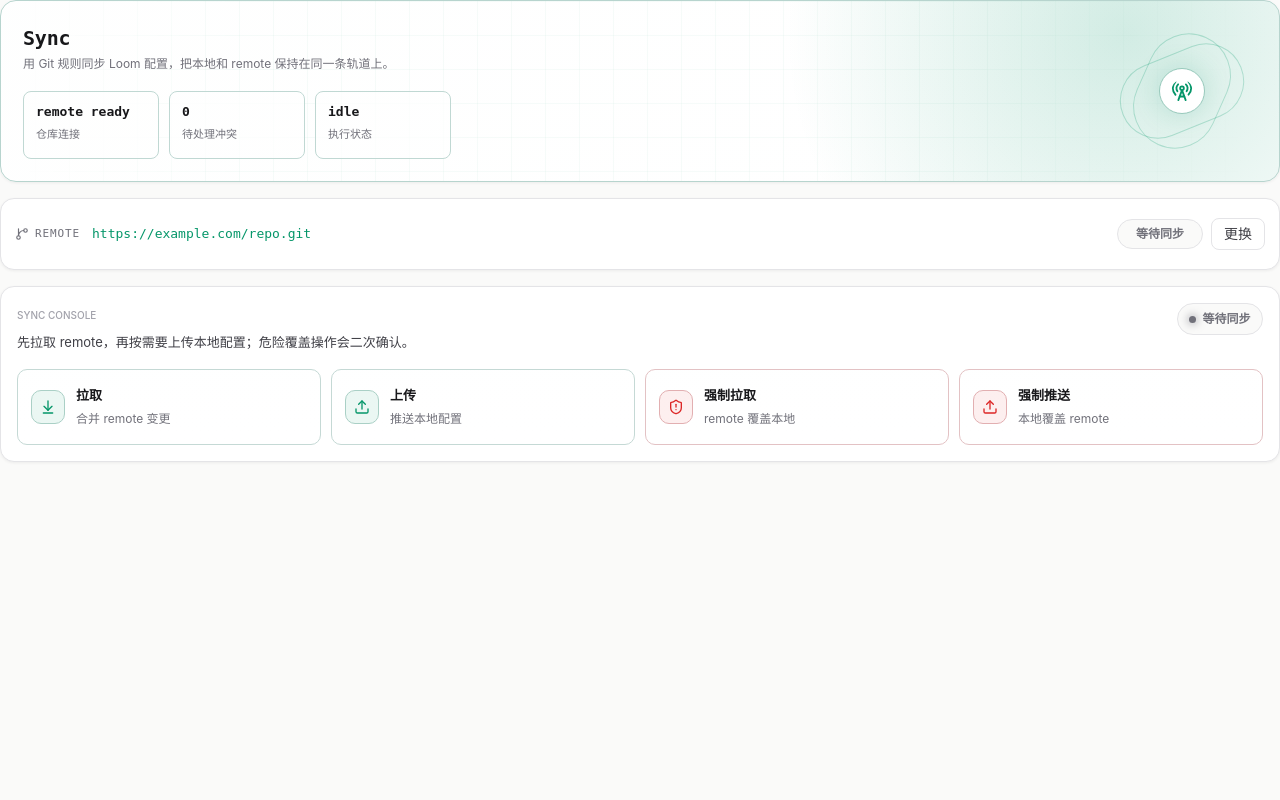
Test case: Sync force operations › can stop waiting for a running upload from the feedback dialog
Expected: the link "https://example.com/repo.git" is shown, [92,226,311,241]
Click the button "上传 推送本地配置" at [362, 407], box [331,369,635,445]
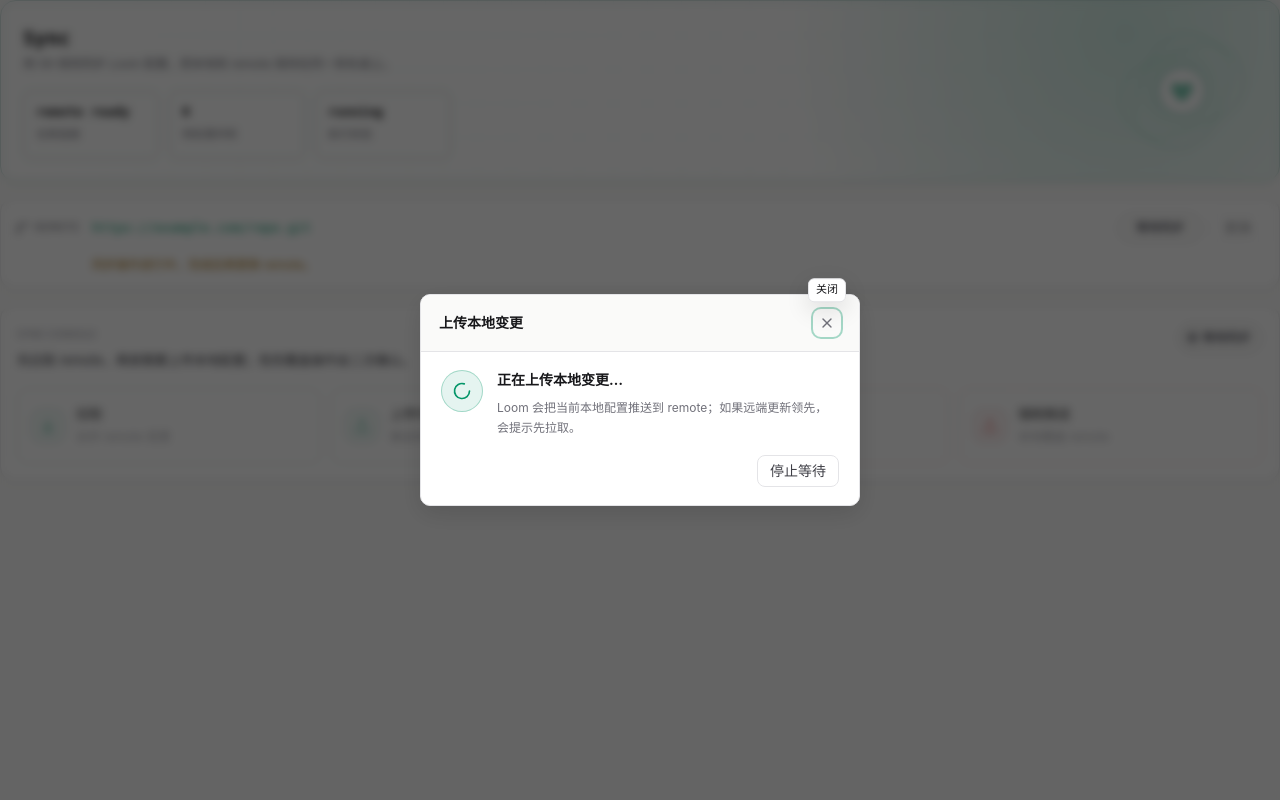
Now the dialog "上传本地变更" is shown, box [420,294,860,506]
Click the button named "关闭" at [827, 324], box [813,310,841,338]
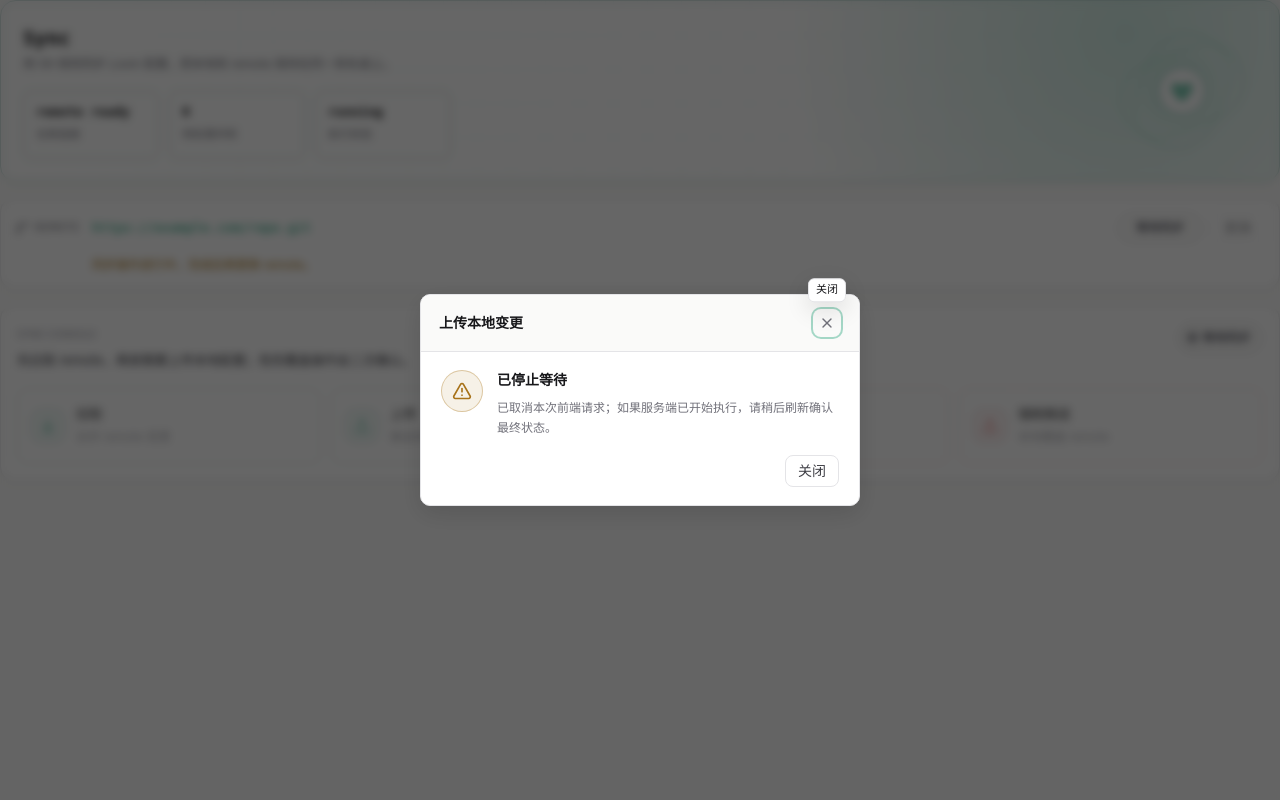
Now the text "已停止等待" is shown, box [497,372,567,388]
